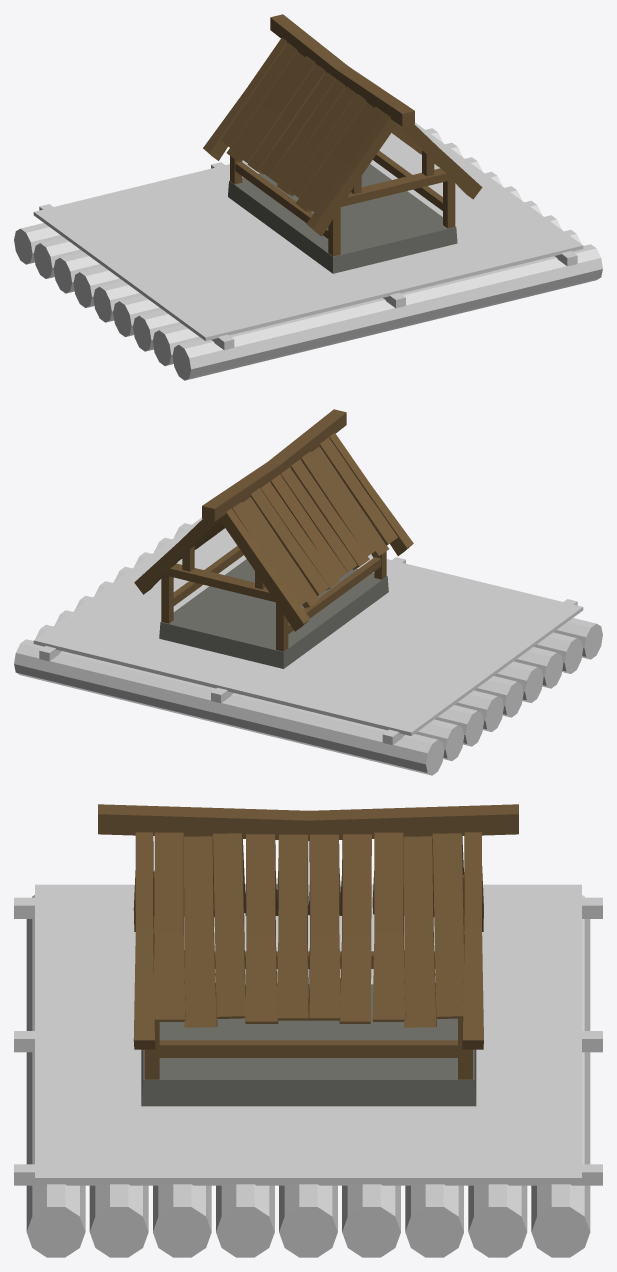
The model's file is rumahrakit.fbx.
3 views of the same model, one above another, from view 1: azimuth 30°, elevation 25°; view 2: azimuth 150°, elevation 25°; view 3: azimuth 270°, elevation 25° (orthographic). The views are drawn at different scales.
Visible parts, largest first — view 1: rumahrakit; view 2: rumahrakit; view 3: rumahrakit.
Boxes of the visible parts, <box> form: rumahrakit: <box>14,14,602,380</box>; rumahrakit: <box>14,409,602,775</box>; rumahrakit: <box>14,804,602,1257</box>.
Size of the model in its own units: 7.2 by 3.3 by 5.6.
